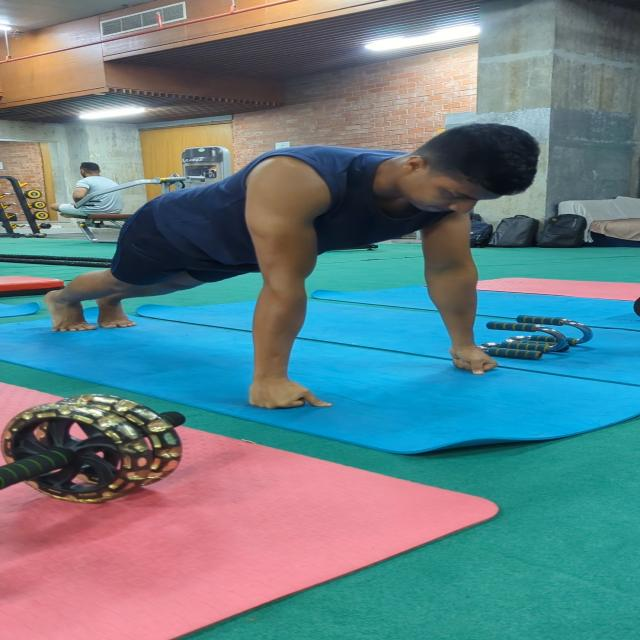Normal_PushUps: (51, 117, 546, 410)
